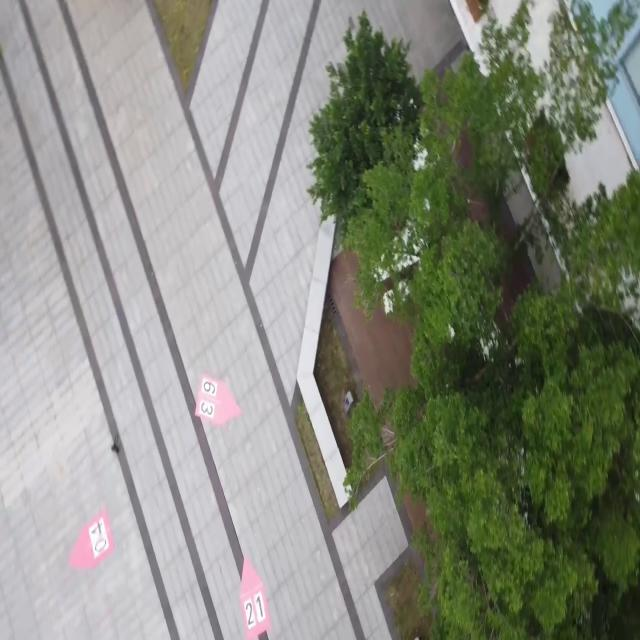-sign-: (70, 508, 115, 570), (238, 558, 270, 636), (195, 372, 240, 427)
